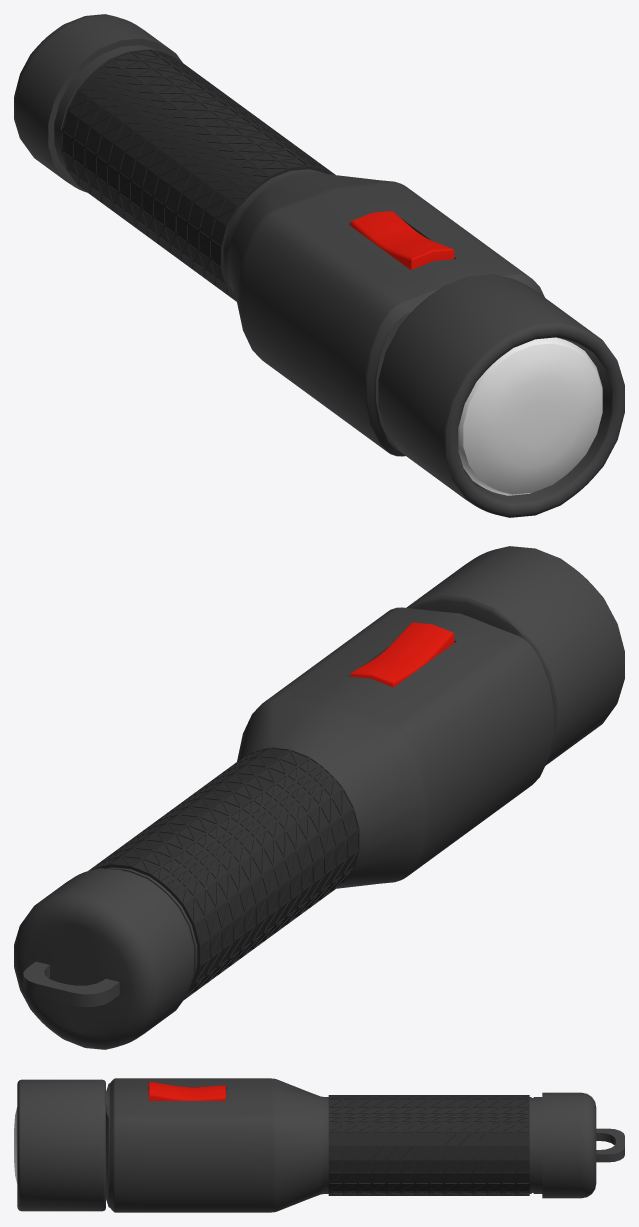
The model's file is Lanterna.fbx.
The picture shows the model from 3 angles, top to bottom: view 1: azimuth 30°, elevation 25°; view 2: azimuth 150°, elevation 25°; view 3: azimuth 270°, elevation 25°; orthographic projection. The views are drawn at different scales.
Parts seen in each view (by area): view 1: Cylinder; view 2: Cylinder; view 3: Cylinder.
Part boxes in pixels (bbox=[...]): Cylinder: bbox=[14, 14, 624, 517]; Cylinder: bbox=[14, 546, 624, 1049]; Cylinder: bbox=[14, 1078, 624, 1212].
Size of the model in its own units: 280 by 272 by 1248.
